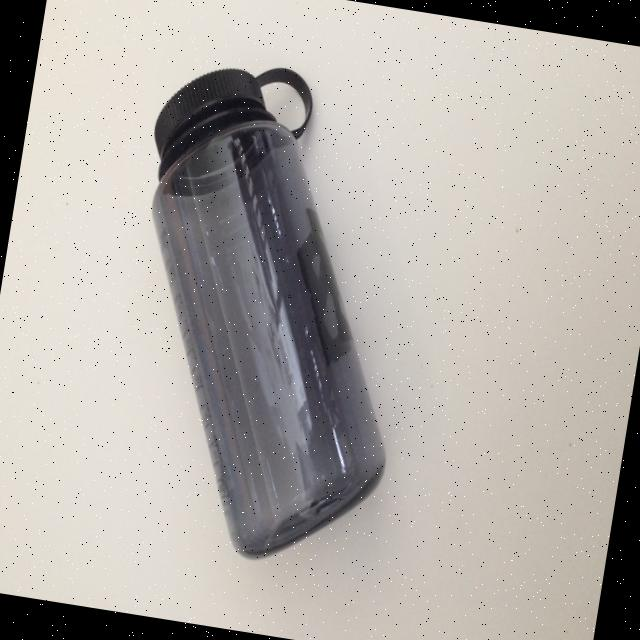plastic: (90, 50, 446, 578)
